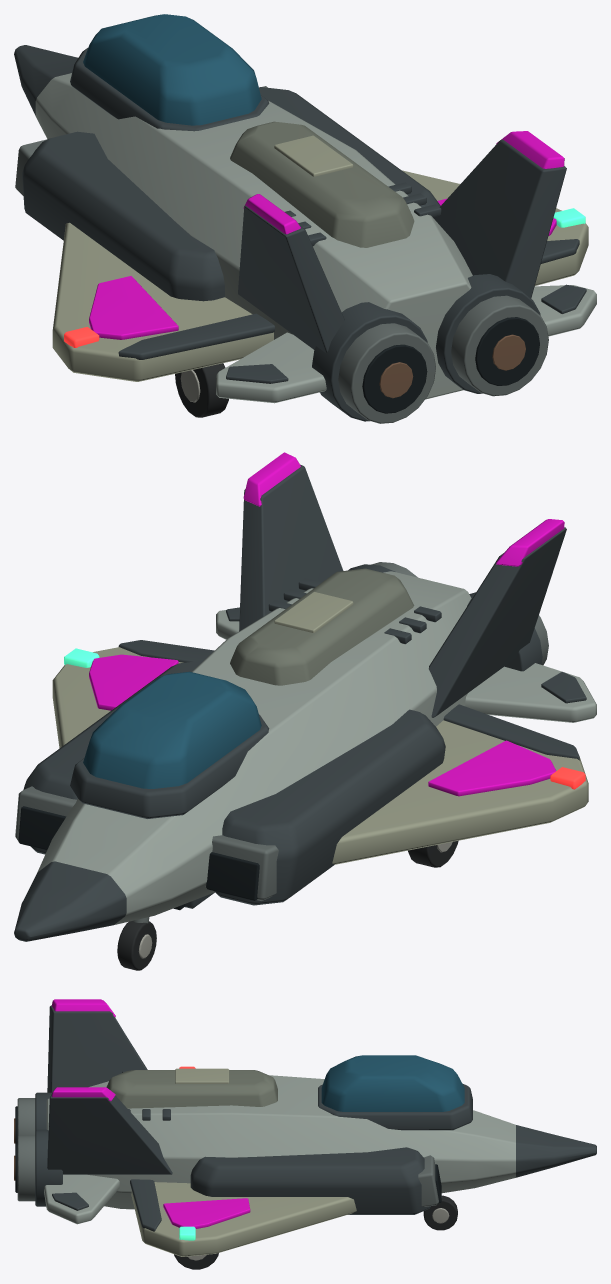
File: fighter.glb
3 renders of one model, top to bottom at view 1: azimuth 30°, elevation 25°; view 2: azimuth 150°, elevation 25°; view 3: azimuth 270°, elevation 25°, orthographic. The views are drawn at different scales.
Visible parts, largest first — view 1: Airframe, LandingGear; view 2: Airframe, LandingGear; view 3: Airframe, LandingGear.
Part boxes in pixels (x1,y1,x2,y2): Airframe: (14, 14, 596, 423); LandingGear: (175, 363, 228, 417); Airframe: (14, 452, 596, 941); LandingGear: (117, 840, 458, 970); Airframe: (14, 999, 596, 1256); LandingGear: (174, 1195, 457, 1269).
Size of the model in its own units: 1.72 by 0.8599 by 2.48.
